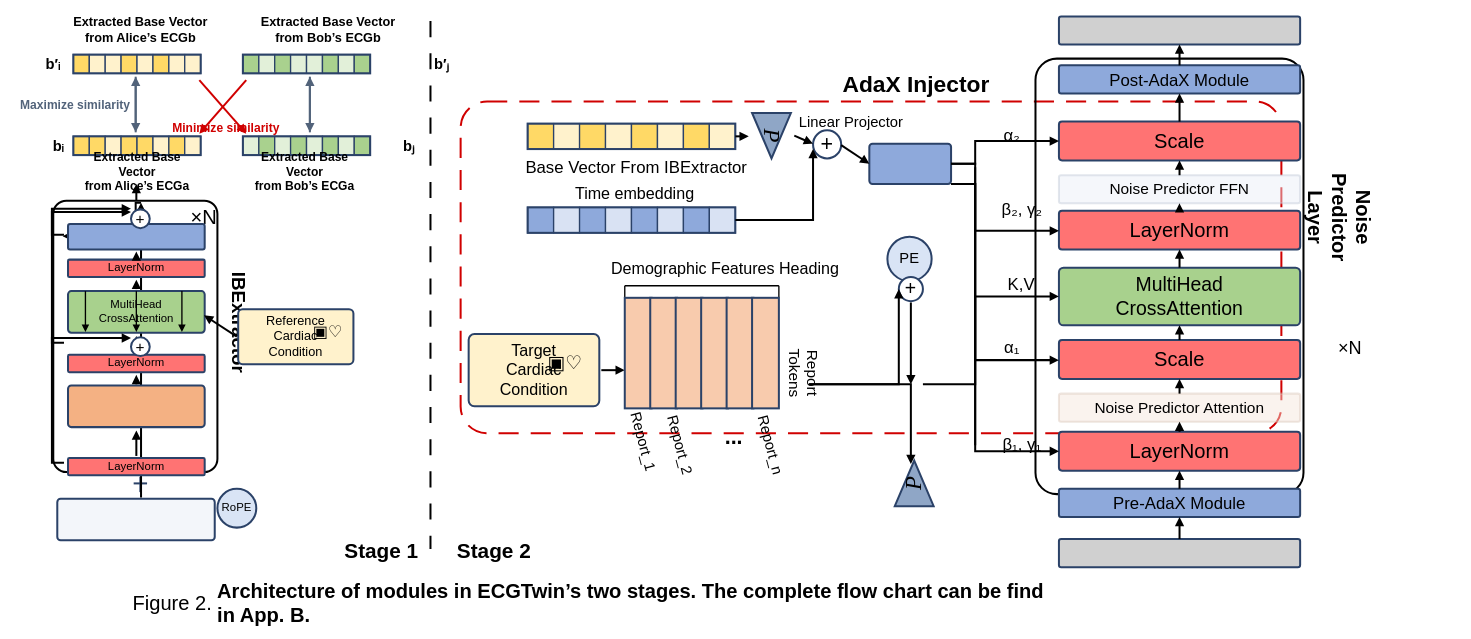
Some shapes in this 1471 by 639 pixel diagram are drawn without their labels. The shapes that lost their labels are listed below. From the top down, each one's centre as x and y in pixels, then its label:
At pixel 1179 30: "Predicted Noise εθ".
At pixel 910 163: "MLP".
At pixel 136 236: "FFN".
At pixel 136 406: "MultiHead SelfAttention".
At pixel 135 519: "Latent of Alice’s ECGa ~~~".
At pixel 1179 553: "Noised ECG Latent Zt".
